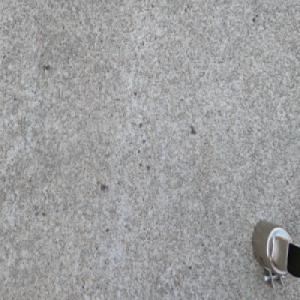MetalPart: (249, 214, 300, 291)
